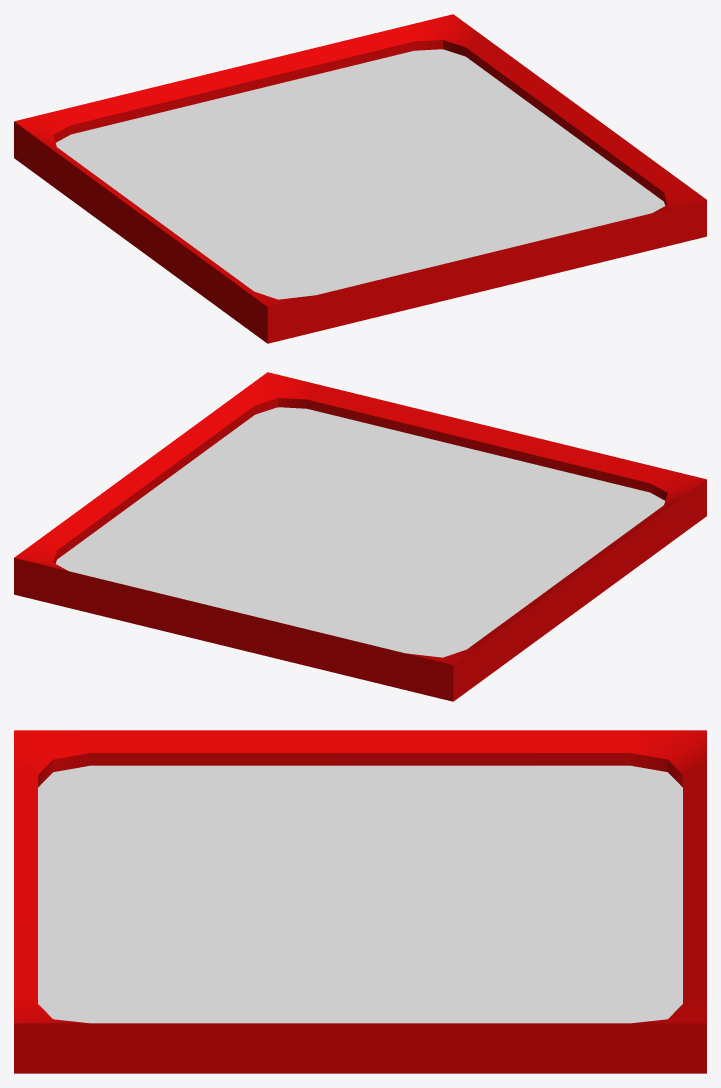
File: window_light_flat_square_small.fbx
3 views of the same model, one above another, from view 1: azimuth 30°, elevation 25°; view 2: azimuth 150°, elevation 25°; view 3: azimuth 270°, elevation 25° (orthographic). The views are drawn at different scales.
Visible parts, largest first — view 1: Window_light_glass, window_light_frame; view 2: Window_light_glass, window_light_frame; view 3: Window_light_glass, window_light_frame.
Part boxes in pixels (x1,y1,x2,y2): Window_light_glass: (56, 49, 665, 299); window_light_frame: (14, 14, 706, 343); Window_light_glass: (55, 407, 664, 657); window_light_frame: (14, 372, 706, 701); Window_light_glass: (38, 765, 682, 1023); window_light_frame: (14, 730, 706, 1073).
Size of the model in its own units: 50 by 4 by 50.
